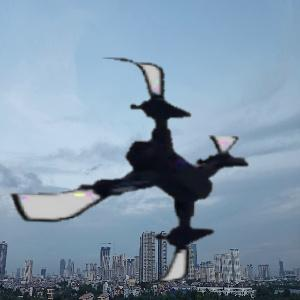drone: (10, 52, 255, 297)
